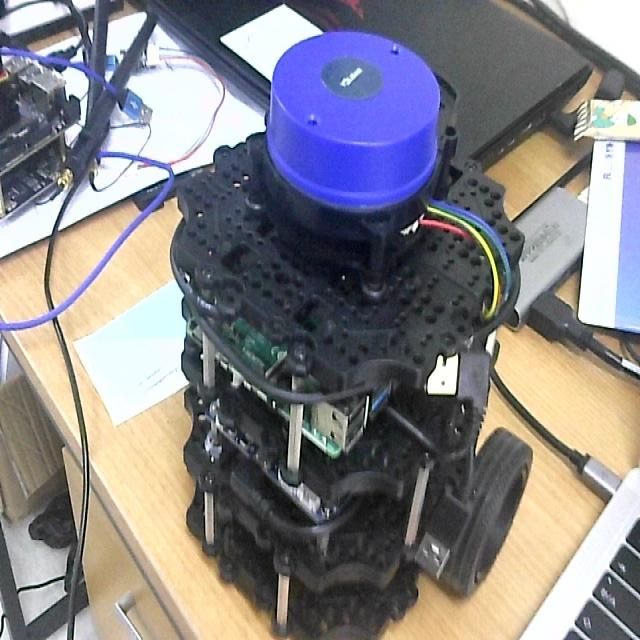turtle: (166, 28, 535, 640)
